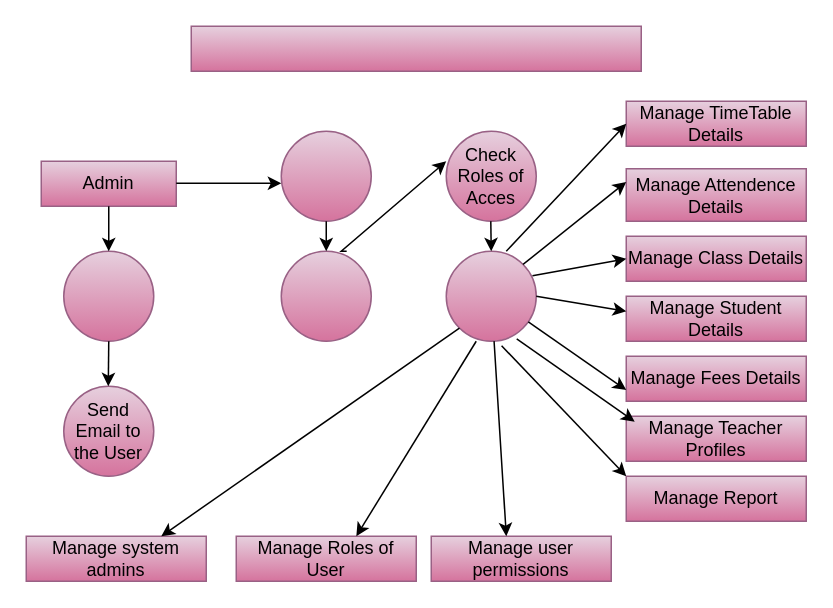
The diagram is 833 pixels wide and 608 high, and some of its shapes have lost their labels. Here are the shapes that lost their labels. From the top down, the centre of each, then its label:
(415,48): Student information stystem
(325,175): Login to the system
(108,295): Forgot Password
(325,295): check credentials
(490,295): Manage Modules
